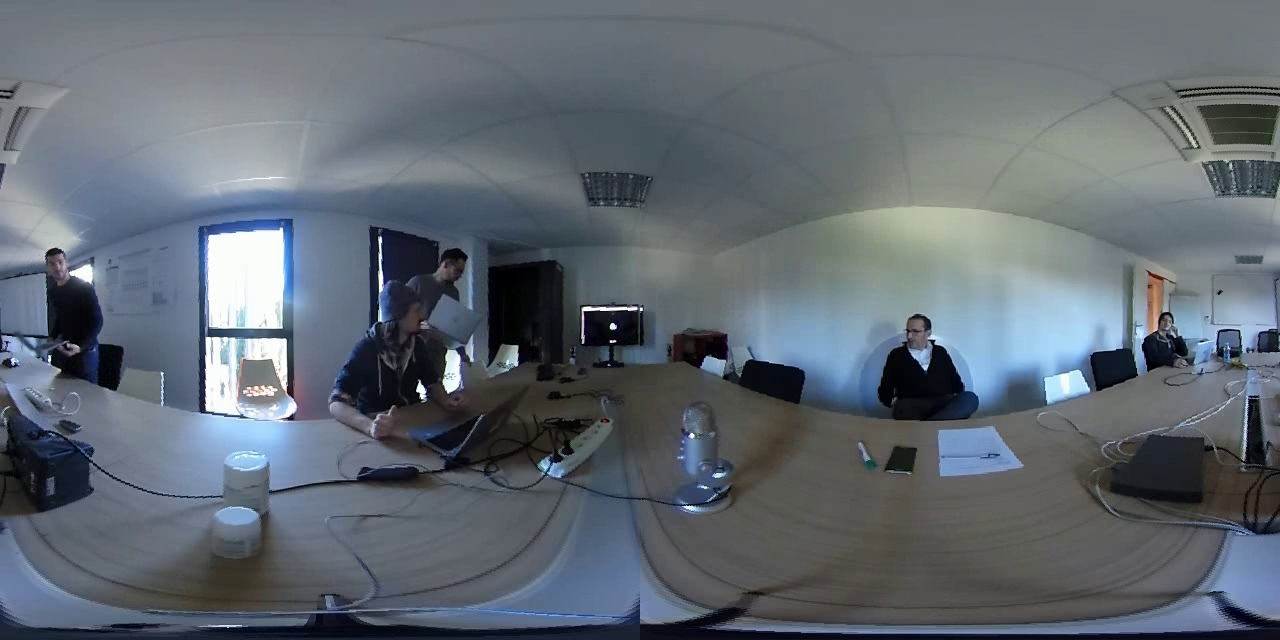person: (347, 277, 428, 435), (874, 312, 977, 409), (38, 241, 104, 371), (431, 240, 470, 309), (1143, 301, 1188, 359)
